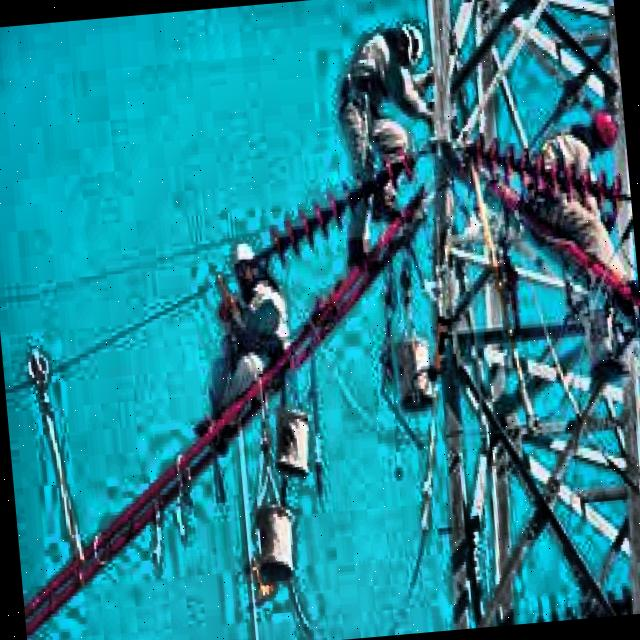helmet: (384, 15, 431, 70), (582, 101, 622, 155), (230, 235, 262, 292)
